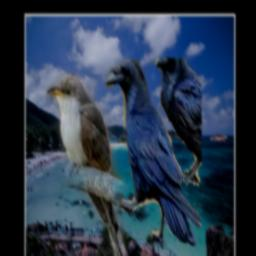Crow: (105, 59, 202, 251)
Cuckoo: (47, 73, 129, 256)
